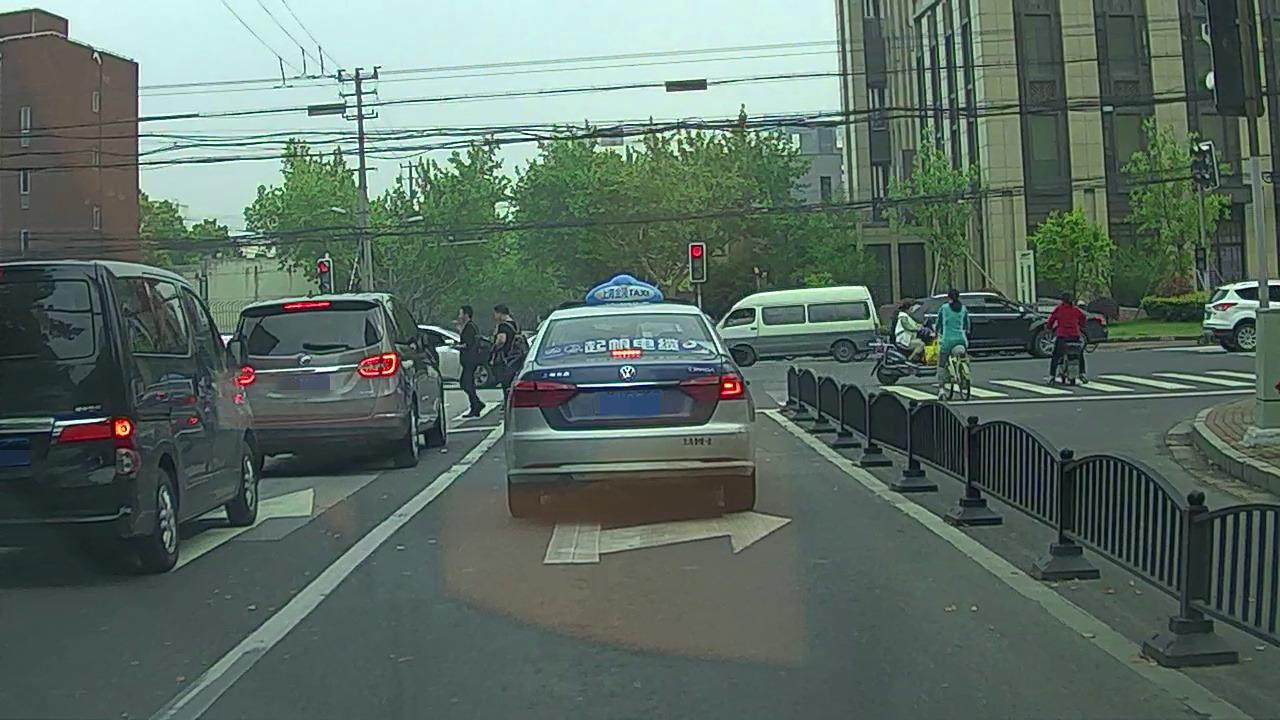traffic_light: (691, 244, 705, 280)
